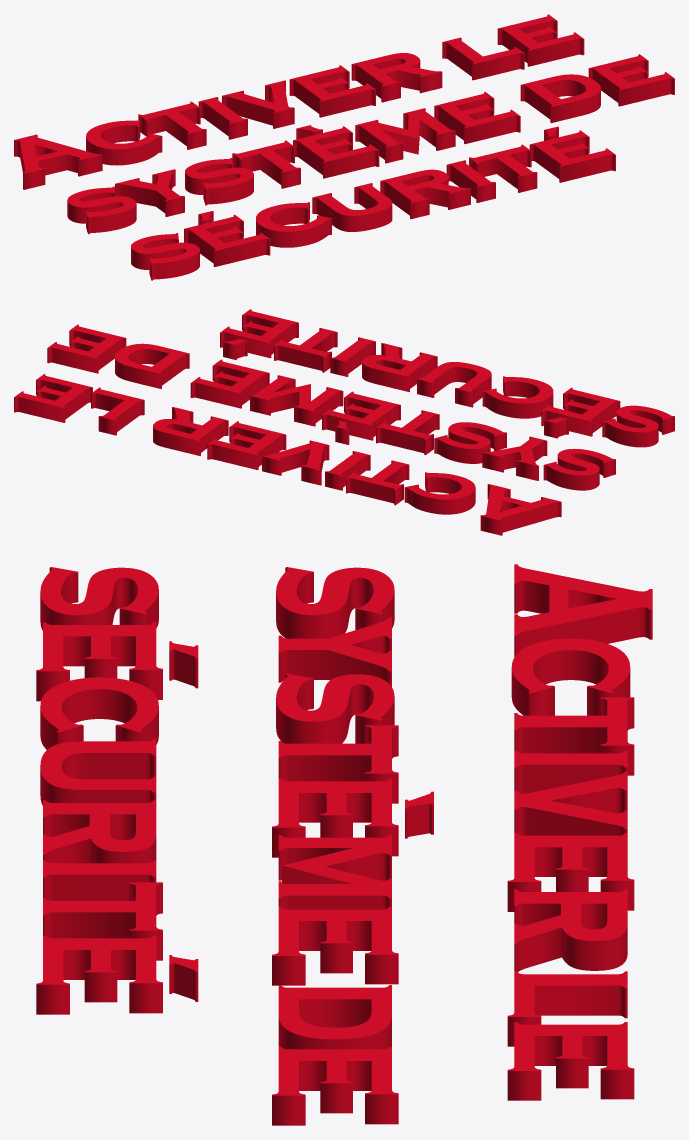
The model's file is IndicatorEndingC.fbx.
3 renders of one model, top to bottom at view 1: azimuth 30°, elevation 25°; view 2: azimuth 150°, elevation 25°; view 3: azimuth 270°, elevation 25°, orthographic. The views are drawn at different scales.
Parts seen in each view (by area): view 1: EndingC; view 2: EndingC; view 3: EndingC.
Boxes of the visible parts, left/top/right/bottom form: EndingC: left=14, top=14, right=674, bottom=280; EndingC: left=14, top=309, right=674, bottom=535; EndingC: left=36, top=564, right=652, bottom=1125.
Bounding box in the file's own units: 534 × 14 × 261.
